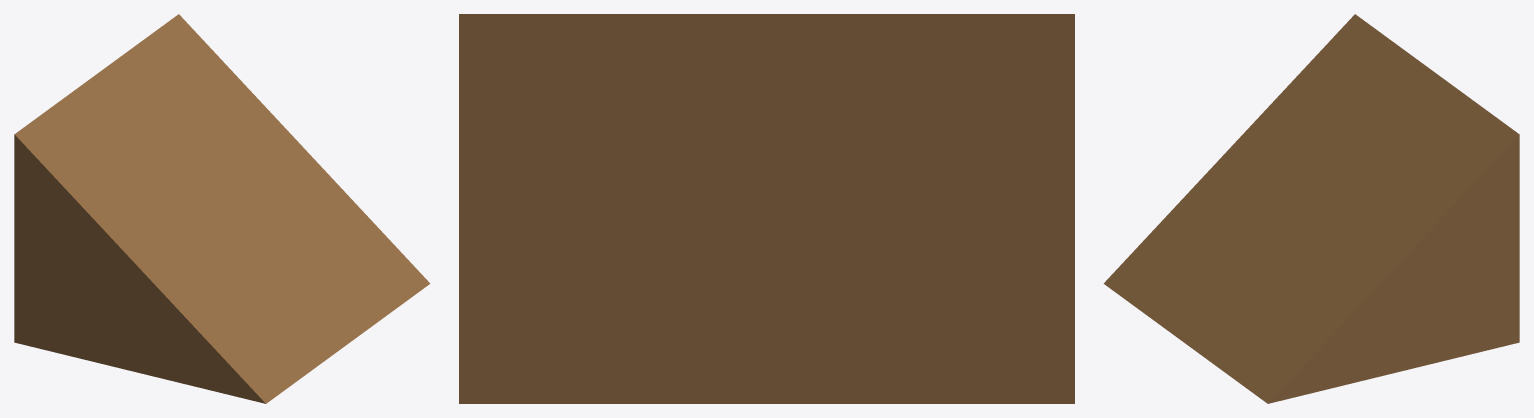
The model's file is RPG_Tiles_Hex_Dirt_Ramp_01.FBX.
3 renders of one model, left to right at view 1: azimuth 30°, elevation 25°; view 2: azimuth 150°, elevation 25°; view 3: azimuth 270°, elevation 25°, orthographic. The views are drawn at different scales.
Visible parts, largest first — view 1: RPG_Tiles_Hex_Dirt_Ramp_01; view 2: RPG_Tiles_Hex_Dirt_Ramp_01; view 3: RPG_Tiles_Hex_Dirt_Ramp_01.
Boxes of the visible parts, bbox=[...] form: RPG_Tiles_Hex_Dirt_Ramp_01: bbox=[14, 14, 430, 403]; RPG_Tiles_Hex_Dirt_Ramp_01: bbox=[459, 14, 1074, 403]; RPG_Tiles_Hex_Dirt_Ramp_01: bbox=[1103, 14, 1519, 403].
Bounding box in the file's own units: 2220 × 1186 × 2148.
